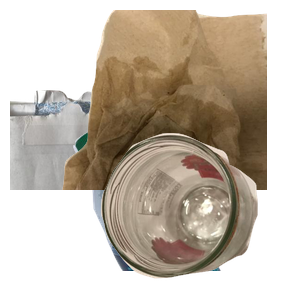glass: (98, 131, 300, 300)
paper: (10, 84, 250, 264)
plastic: (71, 120, 300, 300)
trash: (60, 10, 300, 190)
